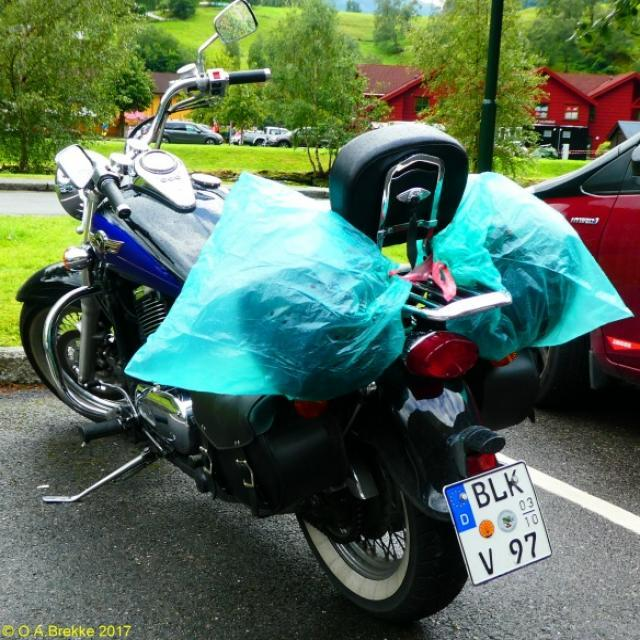license-plates: (444, 463, 553, 586)
